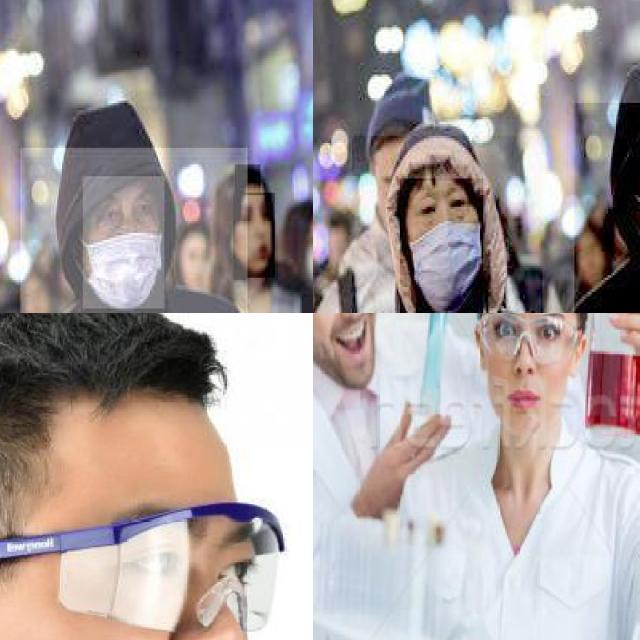face_mask: (400, 178, 483, 313), (83, 176, 164, 309), (305, 223, 313, 282)
face_nomask: (107, 525, 269, 640), (491, 316, 569, 410), (234, 193, 276, 280), (313, 313, 382, 364)
glasses: (0, 501, 285, 638), (476, 313, 581, 366)
hand_noglove: (362, 395, 454, 509), (603, 313, 640, 360)
head_nohelmet: (0, 313, 237, 449), (67, 100, 163, 200), (407, 131, 468, 183), (286, 195, 313, 240), (235, 164, 262, 195)
person: (378, 313, 640, 640), (313, 313, 465, 640), (20, 148, 249, 313), (352, 136, 544, 313)
